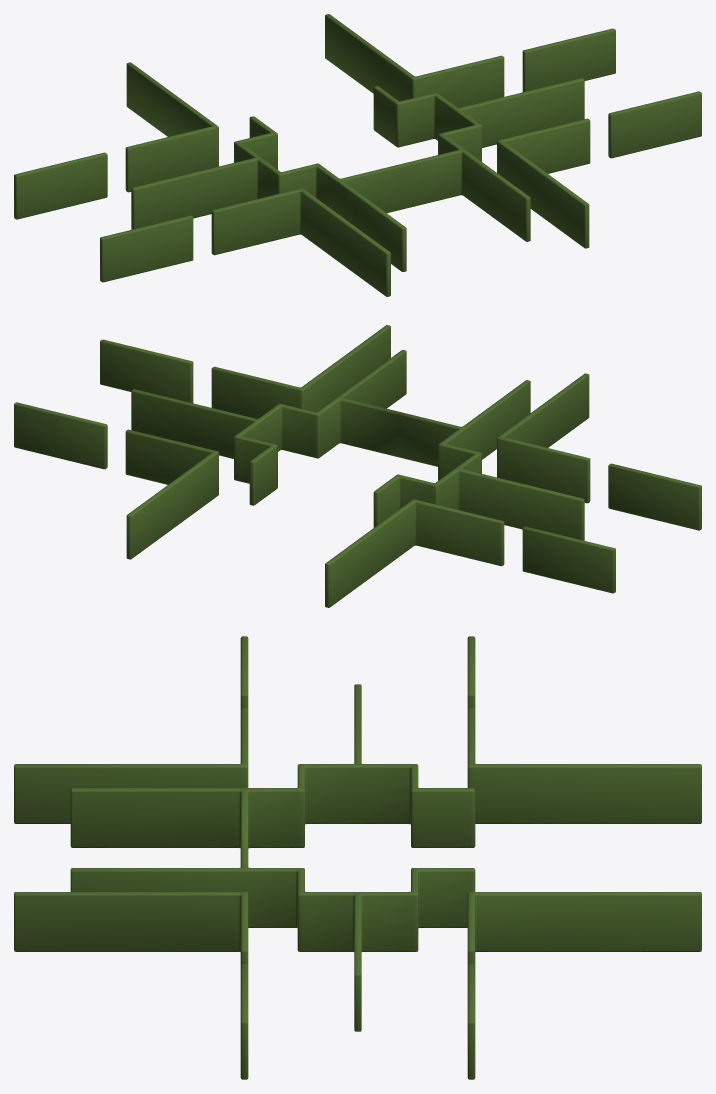
The model's file is hedge.fbx.
The picture shows the model from 3 angles, top to bottom: view 1: azimuth 30°, elevation 25°; view 2: azimuth 150°, elevation 25°; view 3: azimuth 270°, elevation 25°; orthographic projection. The views are drawn at different scales.
Parts seen in each view (by area): view 1: hedge; view 2: hedge; view 3: hedge.
Part boxes in pixels (x1,y1,x2,y2): hedge: (14,14,701,296); hedge: (14,325,701,607); hedge: (14,636,701,1079).
Size of the model in its own units: 4840 by 340 by 3640.
